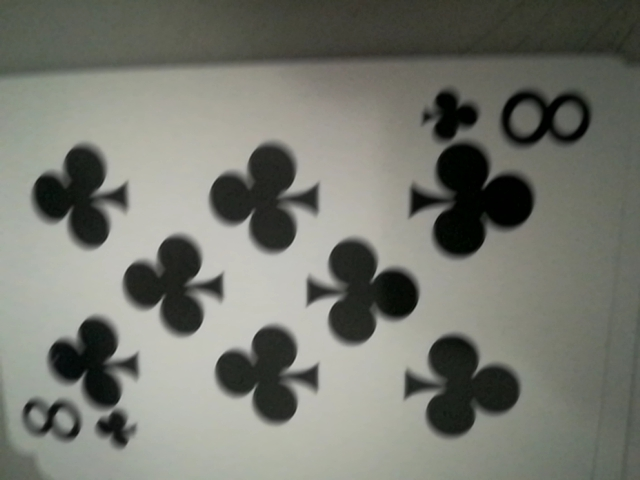mh 8: (418, 71, 592, 153), (15, 393, 139, 455)
